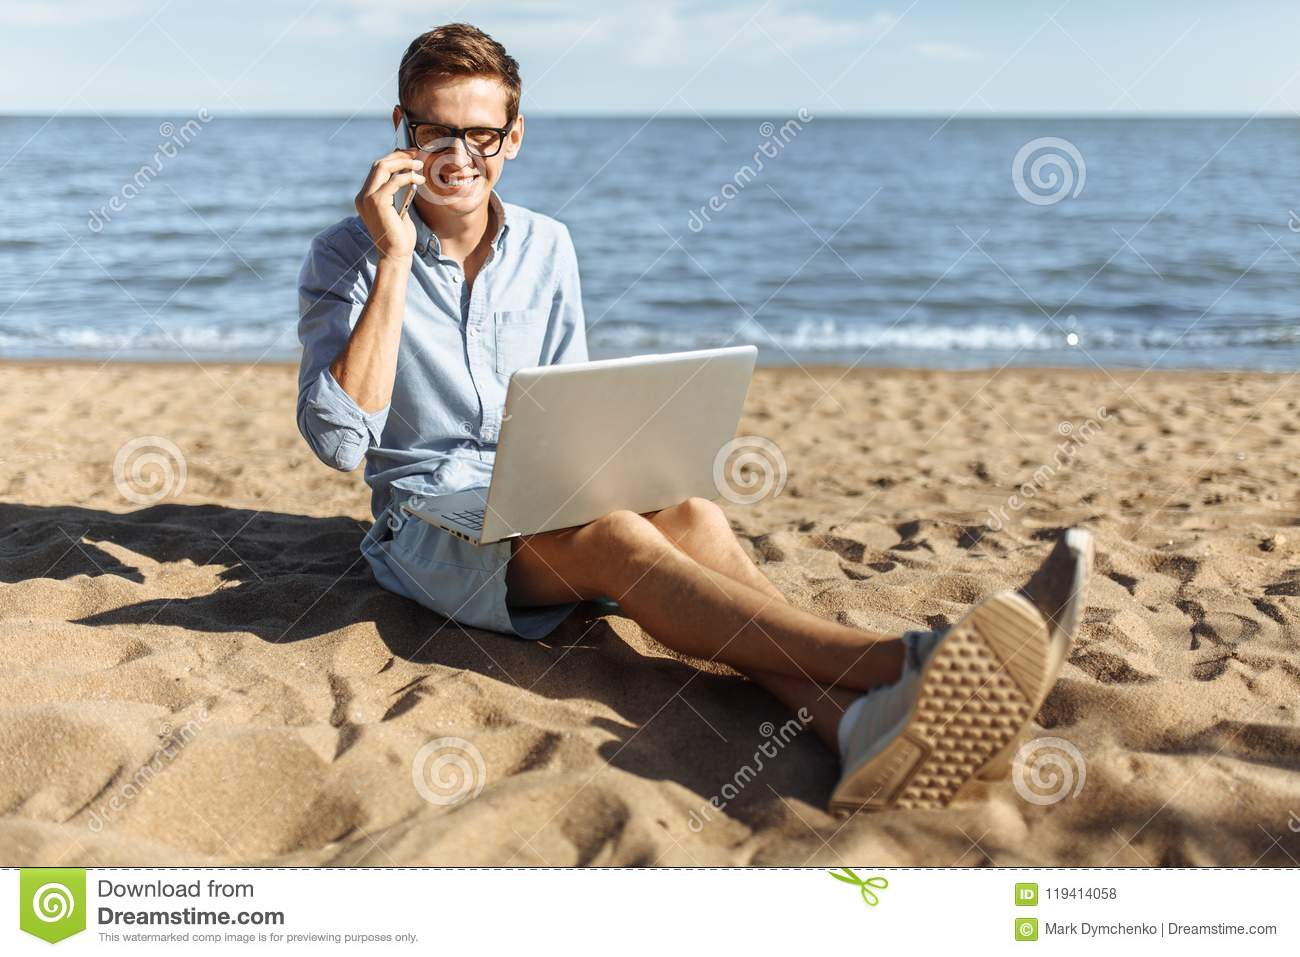phone: (390, 115, 418, 220)
talk: (355, 105, 510, 282)
